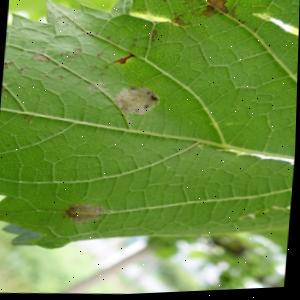Folha: (0, 0, 300, 268)
Fungo: (110, 84, 161, 120), (63, 201, 112, 227), (199, 0, 234, 22), (82, 79, 114, 100), (59, 48, 82, 63), (112, 55, 135, 67), (30, 53, 50, 63), (18, 66, 31, 76), (112, 58, 128, 66), (2, 61, 13, 71)
